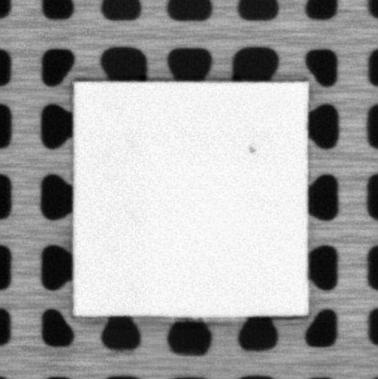DIE_INK: (246, 143, 257, 155)
